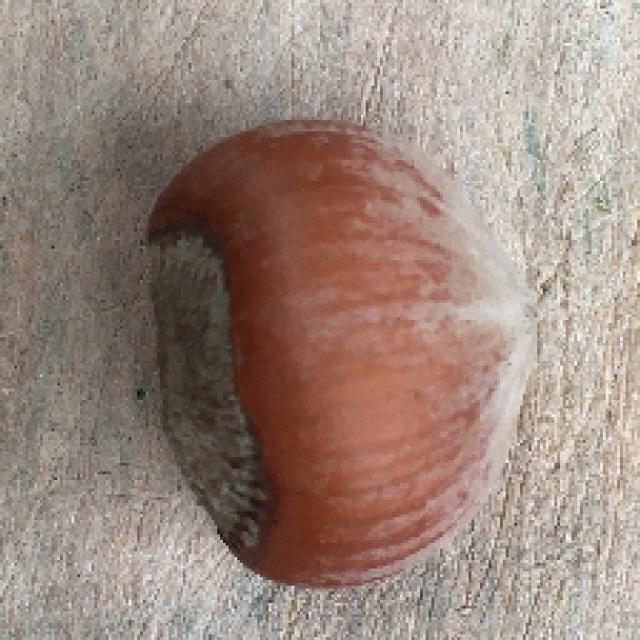qualityHazelnut: (136, 117, 544, 591)
